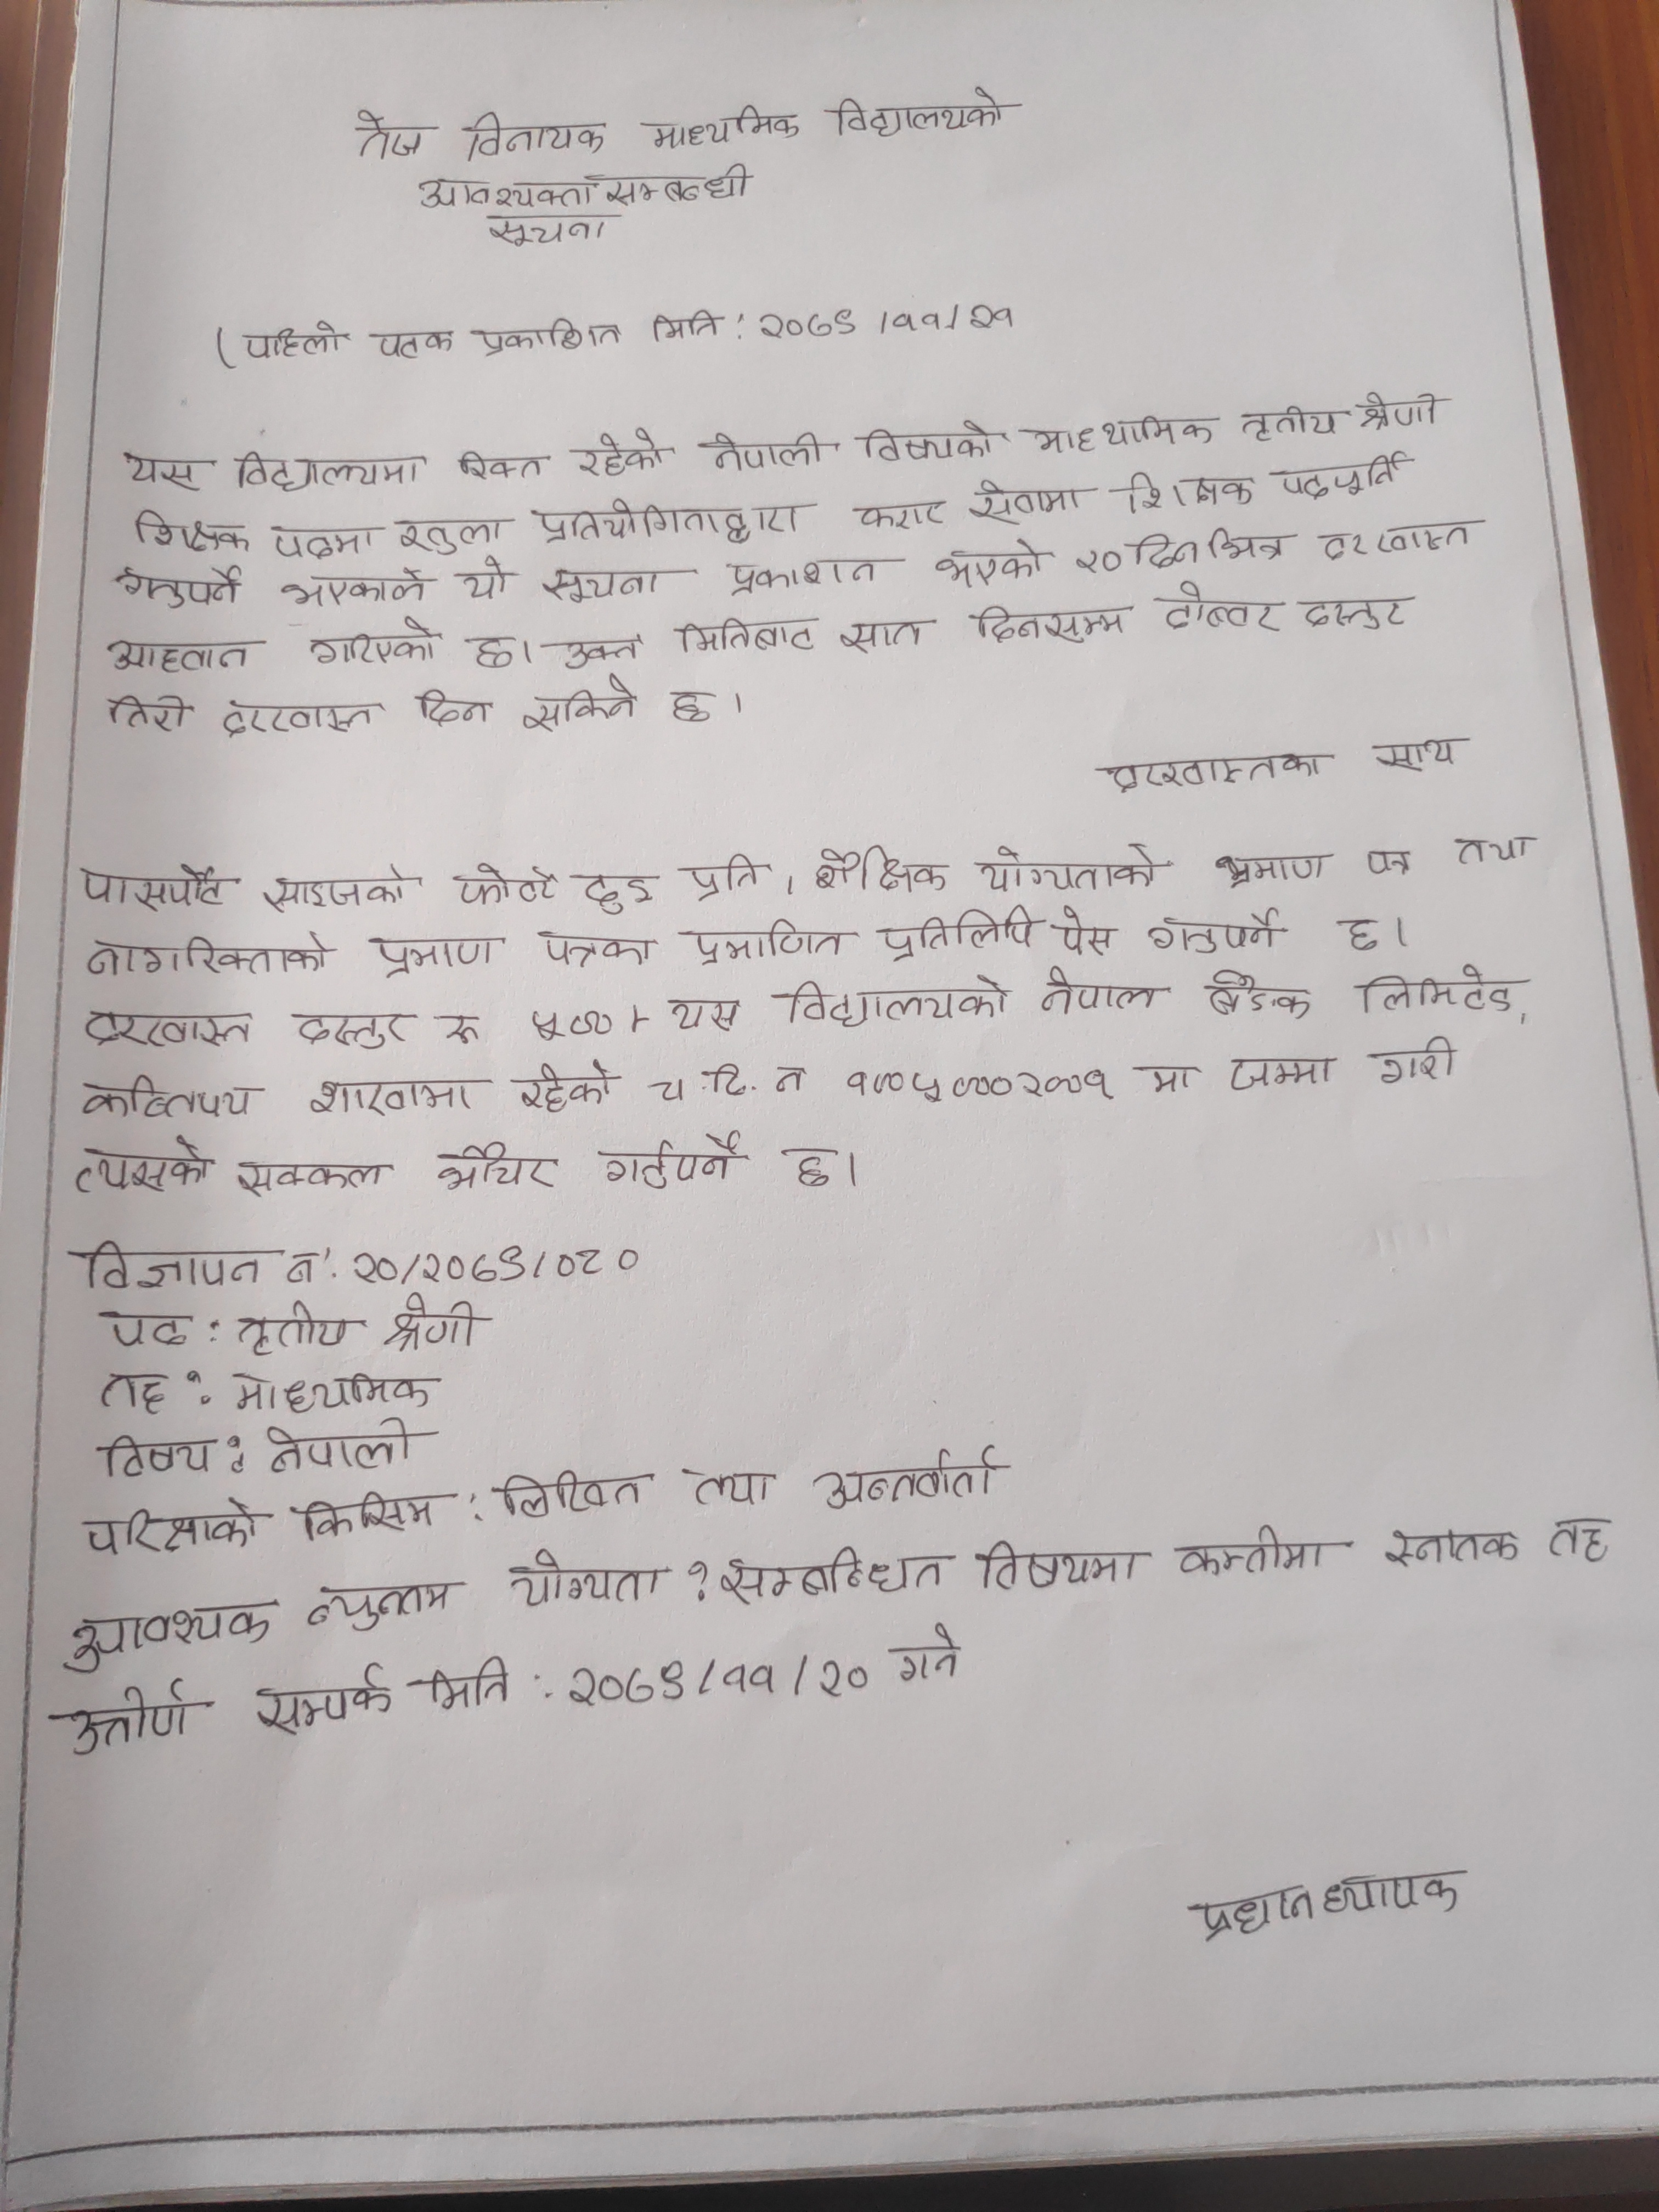text: (1178, 1860, 1478, 1947), (559, 1641, 871, 1712), (54, 1592, 279, 1679), (345, 1233, 652, 1287), (711, 1543, 957, 1604), (782, 970, 1018, 1033), (528, 493, 812, 538), (809, 1449, 1012, 1512), (835, 1064, 1115, 1109), (246, 1662, 396, 1743), (751, 296, 1025, 340), (71, 1235, 268, 1294), (47, 1686, 213, 1756), (1098, 747, 1333, 796), (78, 932, 331, 977), (584, 1130, 756, 1197), (258, 1411, 430, 1475), (223, 1366, 450, 1414), (82, 1500, 263, 1559), (972, 843, 1173, 895), (969, 1536, 1150, 1594), (678, 909, 852, 968), (490, 1465, 659, 1526), (66, 853, 230, 916), (75, 1071, 267, 1123), (61, 1137, 216, 1202), (1356, 965, 1518, 1026), (406, 160, 599, 211), (235, 444, 429, 495), (498, 1547, 673, 1602), (964, 594, 1138, 648), (1300, 510, 1483, 561), (721, 542, 882, 599), (289, 1480, 450, 1538), (519, 671, 648, 742), (875, 909, 1044, 963), (455, 106, 617, 162), (1026, 408, 1218, 455), (427, 1136, 561, 1202), (234, 1298, 364, 1366), (826, 91, 1016, 136), (640, 99, 803, 152), (1173, 1524, 1328, 1578), (75, 1010, 267, 1054), (1380, 1519, 1528, 1575), (1152, 580, 1286, 641), (308, 1075, 488, 1120), (213, 693, 378, 742), (849, 413, 1002, 465), (1276, 446, 1408, 505), (307, 1580, 462, 1630), (261, 866, 420, 914), (650, 1061, 809, 1109), (274, 564, 429, 613), (962, 470, 1086, 531), (230, 1151, 394, 1197), (1026, 970, 1171, 1021), (371, 928, 509, 981), (301, 620, 443, 671), (1141, 909, 1293, 956), (1201, 970, 1321, 1029), (701, 427, 836, 479), (113, 559, 247, 611), (606, 160, 765, 204), (535, 916, 659, 972), (373, 1291, 483, 1353), (676, 1456, 786, 1519), (96, 1430, 223, 1484), (927, 531, 1049, 587), (1117, 467, 1265, 512), (98, 636, 261, 676), (809, 848, 946, 895), (125, 510, 256, 559), (674, 617, 819, 660), (286, 1003, 415, 1052), (415, 1649, 518, 1710), (476, 319, 626, 359), (451, 853, 558, 909), (476, 209, 606, 254), (566, 421, 666, 481), (99, 1301, 207, 1355), (518, 1059, 617, 1116), (1293, 590, 1422, 634), (545, 563, 676, 604), (1363, 1033, 1460, 1087), (1222, 1045, 1337, 1090), (92, 1360, 179, 1420), (122, 439, 206, 500), (453, 441, 558, 489), (235, 317, 352, 361), (394, 512, 509, 556), (1218, 848, 1333, 892), (267, 514, 373, 561), (889, 1622, 964, 1688), (1361, 726, 1466, 773), (98, 685, 193, 735), (685, 848, 769, 906), (343, 106, 432, 158), (1201, 519, 1290, 571), (1237, 397, 1344, 441), (1356, 392, 1453, 439), (523, 1003, 624, 1049), (575, 862, 659, 916), (1053, 902, 1126, 963), (1539, 1515, 1619, 1568), (1453, 826, 1546, 871), (836, 611, 929, 655), (765, 1143, 836, 1198), (856, 493, 951, 533), (547, 632, 647, 671), (1127, 1052, 1202, 1101), (416, 686, 490, 732), (368, 326, 462, 361), (648, 300, 723, 343), (1127, 531, 1201, 575), (457, 556, 514, 610), (1328, 909, 1392, 956), (657, 685, 723, 730), (664, 995, 749, 1029), (465, 632, 525, 676), (1361, 841, 1422, 883), (1072, 542, 1124, 578), (282, 1245, 322, 1292), (439, 1012, 483, 1054)
